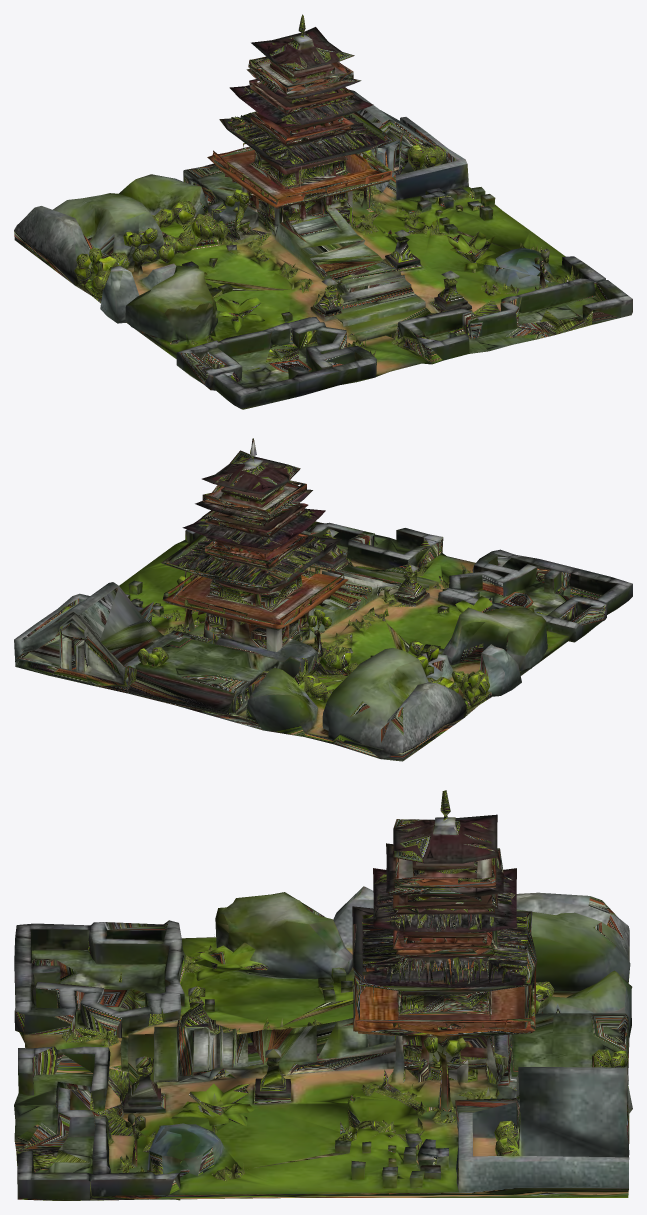
File: Five_Tier_Pagoda_Gard.glb
The picture shows the model from 3 angles, top to bottom: view 1: azimuth 30°, elevation 25°; view 2: azimuth 150°, elevation 25°; view 3: azimuth 270°, elevation 25°; orthographic projection. The views are drawn at different scales.
Visible parts, largest first — view 1: Five_Tier_Pagoda_Gard; view 2: Five_Tier_Pagoda_Gard; view 3: Five_Tier_Pagoda_Gard.
Boxes of the visible parts, left/top/right/bottom form: Five_Tier_Pagoda_Gard: left=14, top=14, right=632, bottom=409; Five_Tier_Pagoda_Gard: left=14, top=438, right=632, bottom=761; Five_Tier_Pagoda_Gard: left=14, top=790, right=632, bottom=1200.
Size of the model in its own units: 1.9 by 1.02 by 1.9.
Materials: 1 (1 with a texture image).
